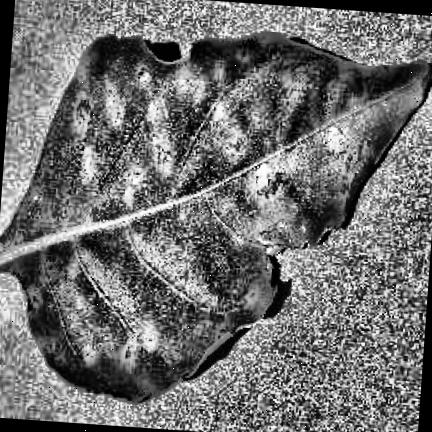leaf: (0, 31, 432, 400)
